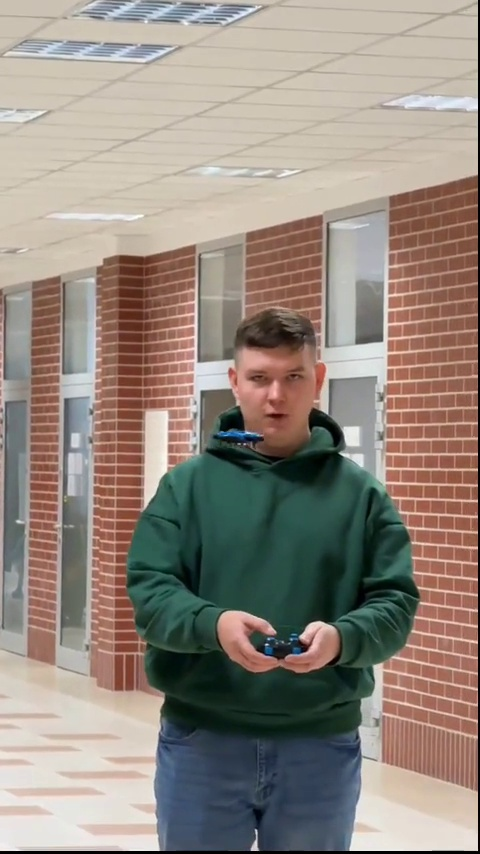drone: (213, 430, 264, 448)
no vest: (127, 312, 444, 854)
